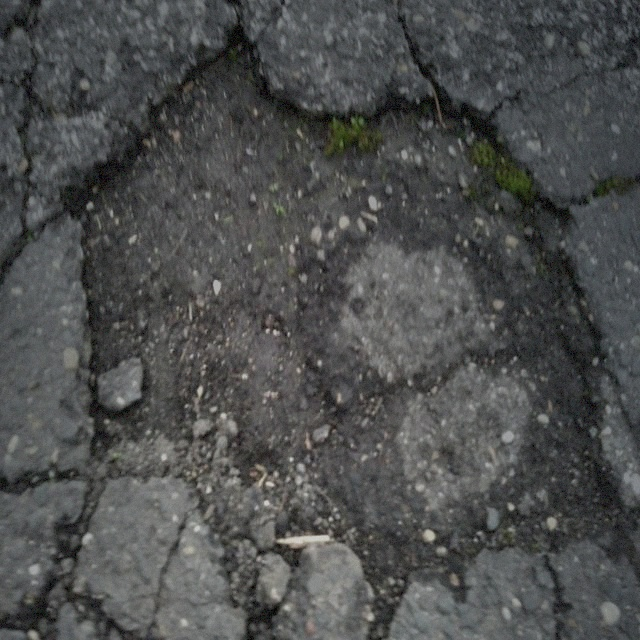pothole: (73, 16, 613, 601)
